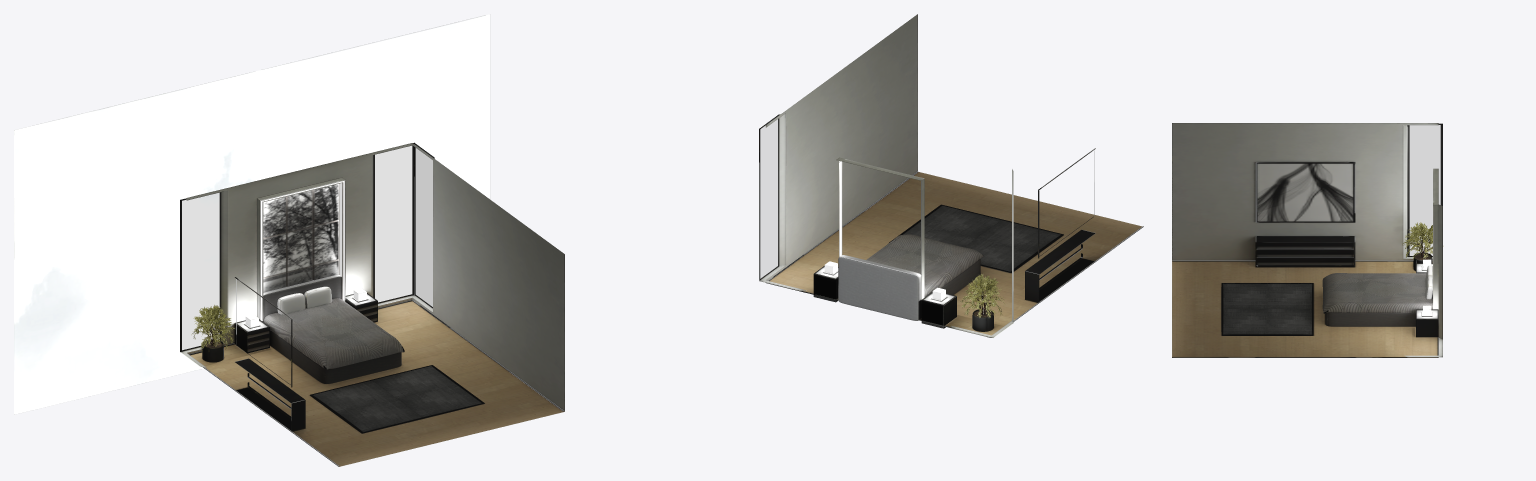
File: modern_bedroom_no_roof.glb
3 views of the same model, side by side, from view 1: azimuth 30°, elevation 25°; view 2: azimuth 150°, elevation 25°; view 3: azimuth 270°, elevation 25° (orthographic). The views are drawn at different scales.
Visible parts, largest first — view 1: Bedroom, Bedroom_Bedroom_0.001; view 2: Bedroom, Bedroom_Bedroom_0.001; view 3: Bedroom, Bedroom_Bedroom_0.001.
Part boxes in pixels (x1=…): Bedroom: x1=14, y1=14, x2=564, y2=466; Bedroom_Bedroom_0.001: x1=199, y1=283, x2=332, y2=362; Bedroom: x1=759, y1=14, x2=1143, y2=338; Bedroom_Bedroom_0.001: x1=857, y1=273, x2=998, y2=331; Bedroom: x1=1172, y1=123, x2=1443, y2=357; Bedroom_Bedroom_0.001: x1=1407, y1=222, x2=1432, y2=299.
Bounding box in the file's own units: 10.83 × 6.19 × 7.86.
4 materials, 3 textured.
